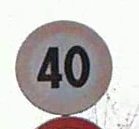limite 40: (17, 17, 112, 117)
